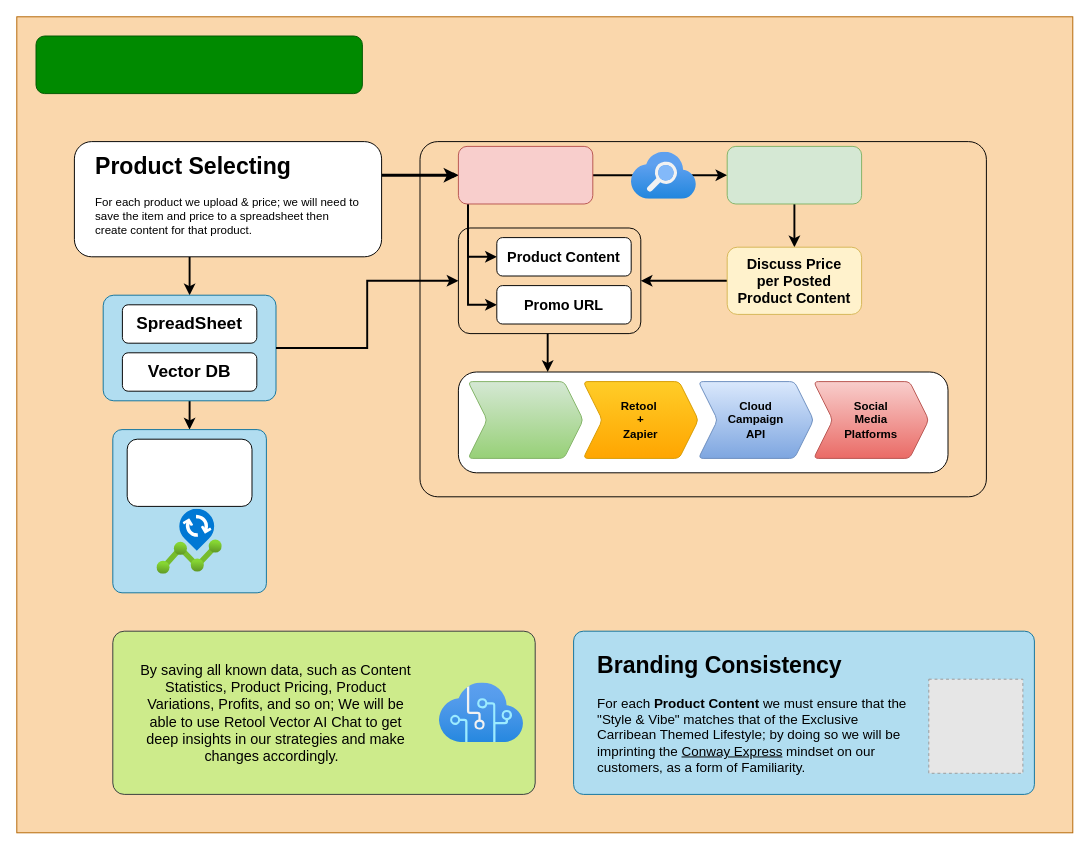
Some shapes in this 1090 by 850 pixel diagram are drawn without their labels. Grey dashed boxes stand in for pictures. Here are the shapes that lost their labels. From the top down, the centre of each, then its label:
At pixel 198 64: "Marketing Strategy".
At pixel 525 174: "Influencity".
At pixel 794 174: "Connect with Influencers".
At pixel 525 419: "Content Creator App".
At pixel 189 472: "Product Profitability Analytics".
